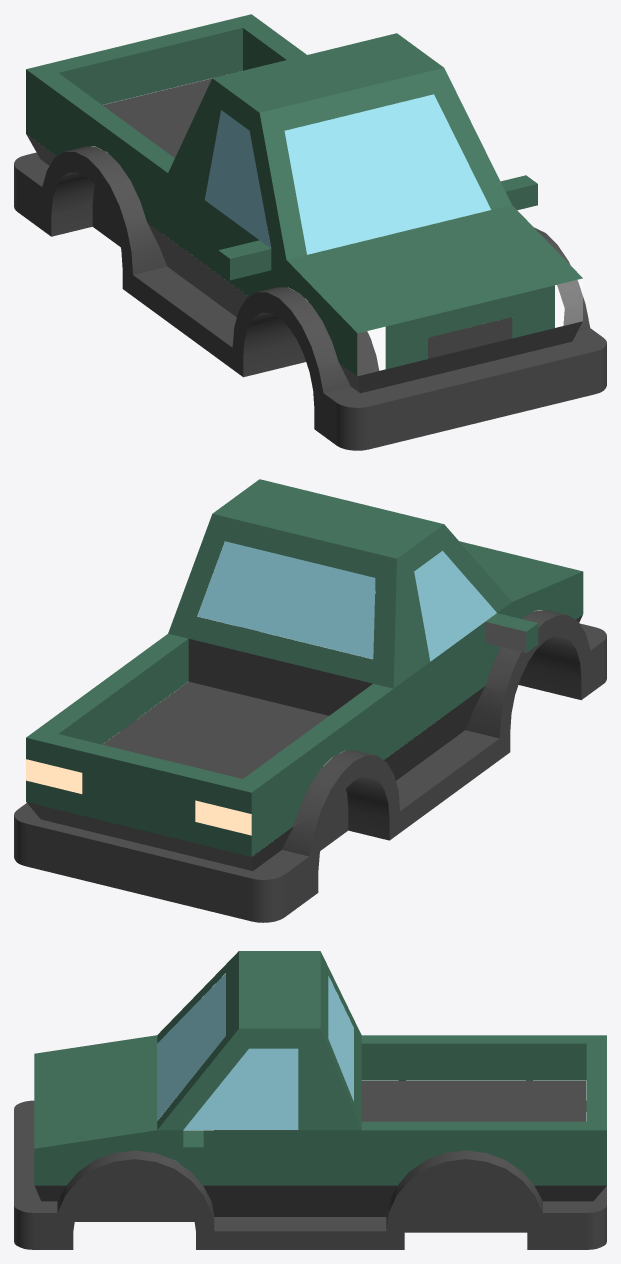
Rendered from chassis.gltf.
The picture shows the model from 3 angles, top to bottom: view 1: azimuth 30°, elevation 25°; view 2: azimuth 150°, elevation 25°; view 3: azimuth 270°, elevation 25°; orthographic projection. The views are drawn at different scales.
Parts seen in each view (by area): view 1: body; view 2: body; view 3: body.
Part boxes in pixels (x1=…): body: x1=14, y1=14, x2=606, y2=450; body: x1=14, y1=479, x2=606, y2=922; body: x1=14, y1=951, x2=606, y2=1249.
Size of the model in its own units: 1.5 by 1.1 by 2.9.
